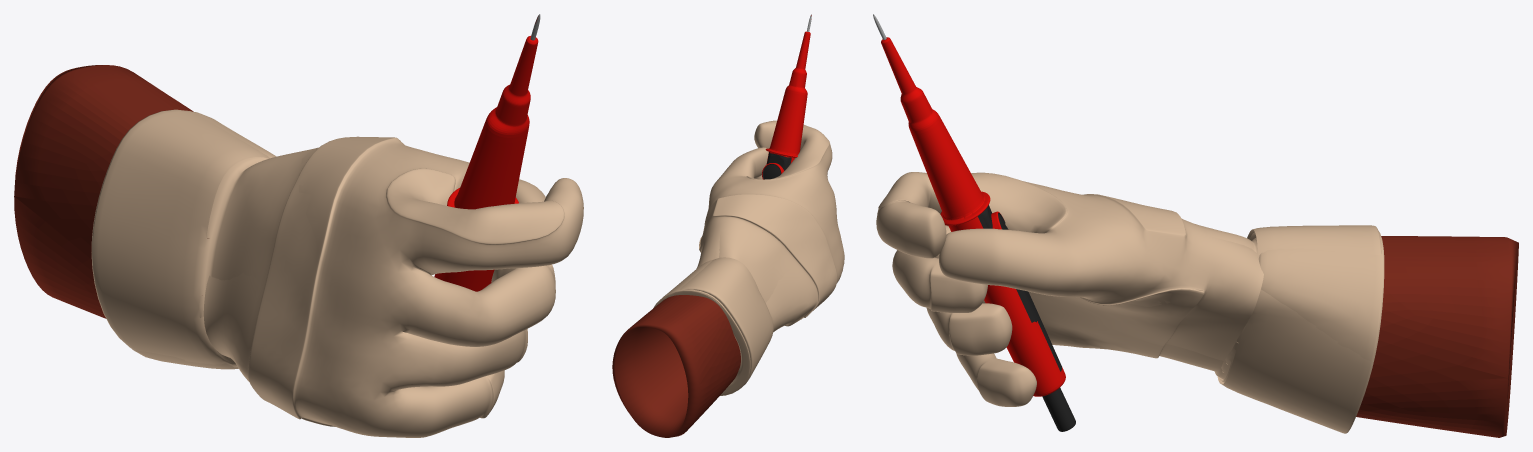
Rendered from glove-with-duspol-2.fbx.
The picture shows the model from 3 angles, left to right: view 1: azimuth 30°, elevation 25°; view 2: azimuth 150°, elevation 25°; view 3: azimuth 270°, elevation 25°; orthographic projection. The views are drawn at different scales.
Parts seen in each view (by area): view 1: WorkGloves_RightWorkGloves.002, gloves.001_Cube.002, duspol-L_duspol.001; view 2: WorkGloves_RightWorkGloves.002, gloves.001_Cube.002, duspol-L_duspol.001; view 3: WorkGloves_RightWorkGloves.002, gloves.001_Cube.002, duspol-L_duspol.001.
Part boxes in pixels (bbox=[...]): WorkGloves_RightWorkGloves.002: bbox=[91, 109, 583, 437]; gloves.001_Cube.002: bbox=[14, 65, 208, 318]; duspol-L_duspol.001: bbox=[434, 14, 540, 291]; WorkGloves_RightWorkGloves.002: bbox=[653, 120, 844, 395]; gloves.001_Cube.002: bbox=[612, 295, 740, 437]; duspol-L_duspol.001: bbox=[762, 14, 811, 179]; WorkGloves_RightWorkGloves.002: bbox=[876, 172, 1384, 433]; gloves.001_Cube.002: bbox=[1356, 236, 1518, 437]; duspol-L_duspol.001: bbox=[873, 14, 1075, 431].
Bounding box in the file's own units: 416 × 865 × 1129.
